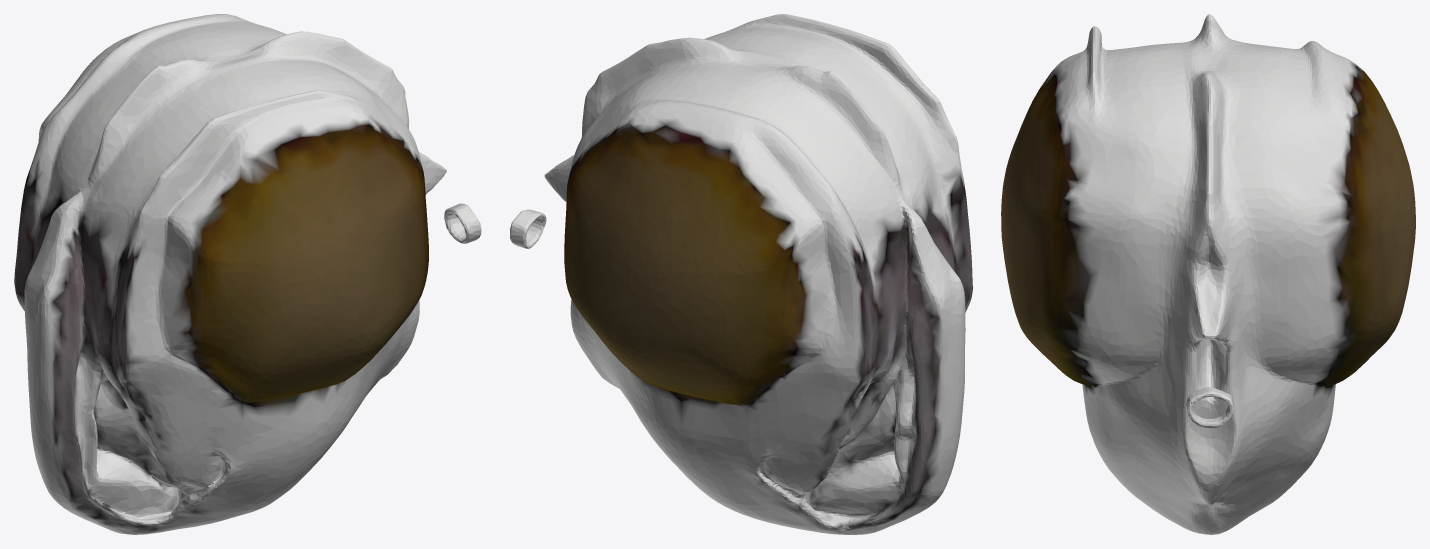
The model's file is coffee.glb.
The picture shows the model from 3 angles, left to right: view 1: azimuth 30°, elevation 25°; view 2: azimuth 150°, elevation 25°; view 3: azimuth 270°, elevation 25°; orthographic projection. The views are drawn at different scales.
Parts seen in each view (by area): view 1: geometry_0; view 2: geometry_0; view 3: geometry_0.
Boxes of the visible parts, box(x1,y1,x2,y2) form: geometry_0: box(14, 14, 481, 534); geometry_0: box(510, 14, 972, 534); geometry_0: box(1001, 14, 1415, 534).
Size of the model in its own units: 0.4685 by 0.4688 by 0.3702.
